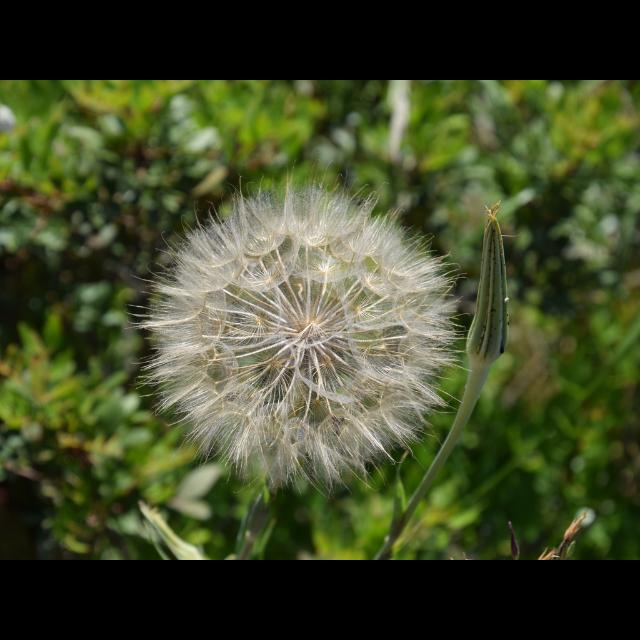Flower: (129, 159, 467, 496)
